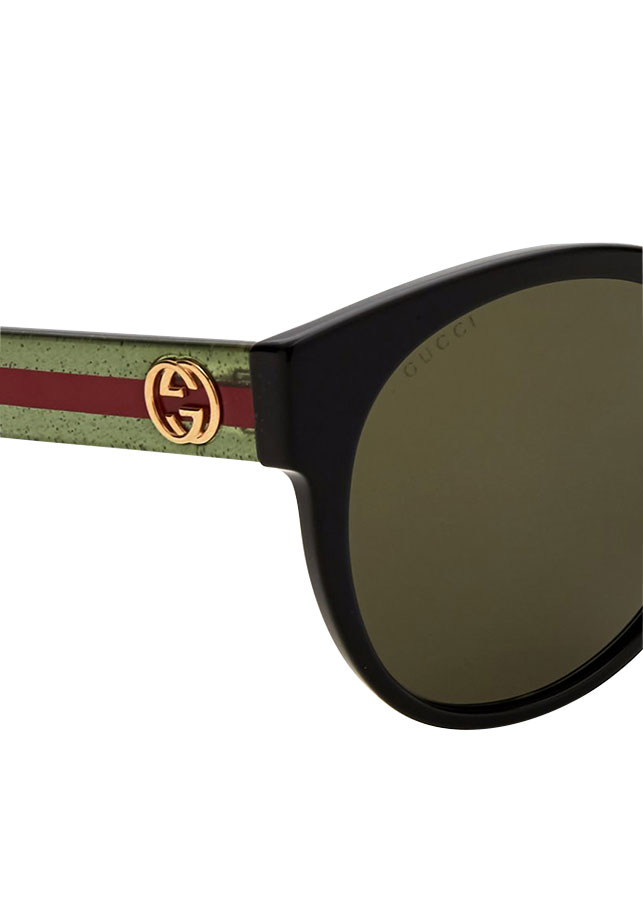Gucci: (119, 344, 233, 452), (401, 306, 481, 388)
